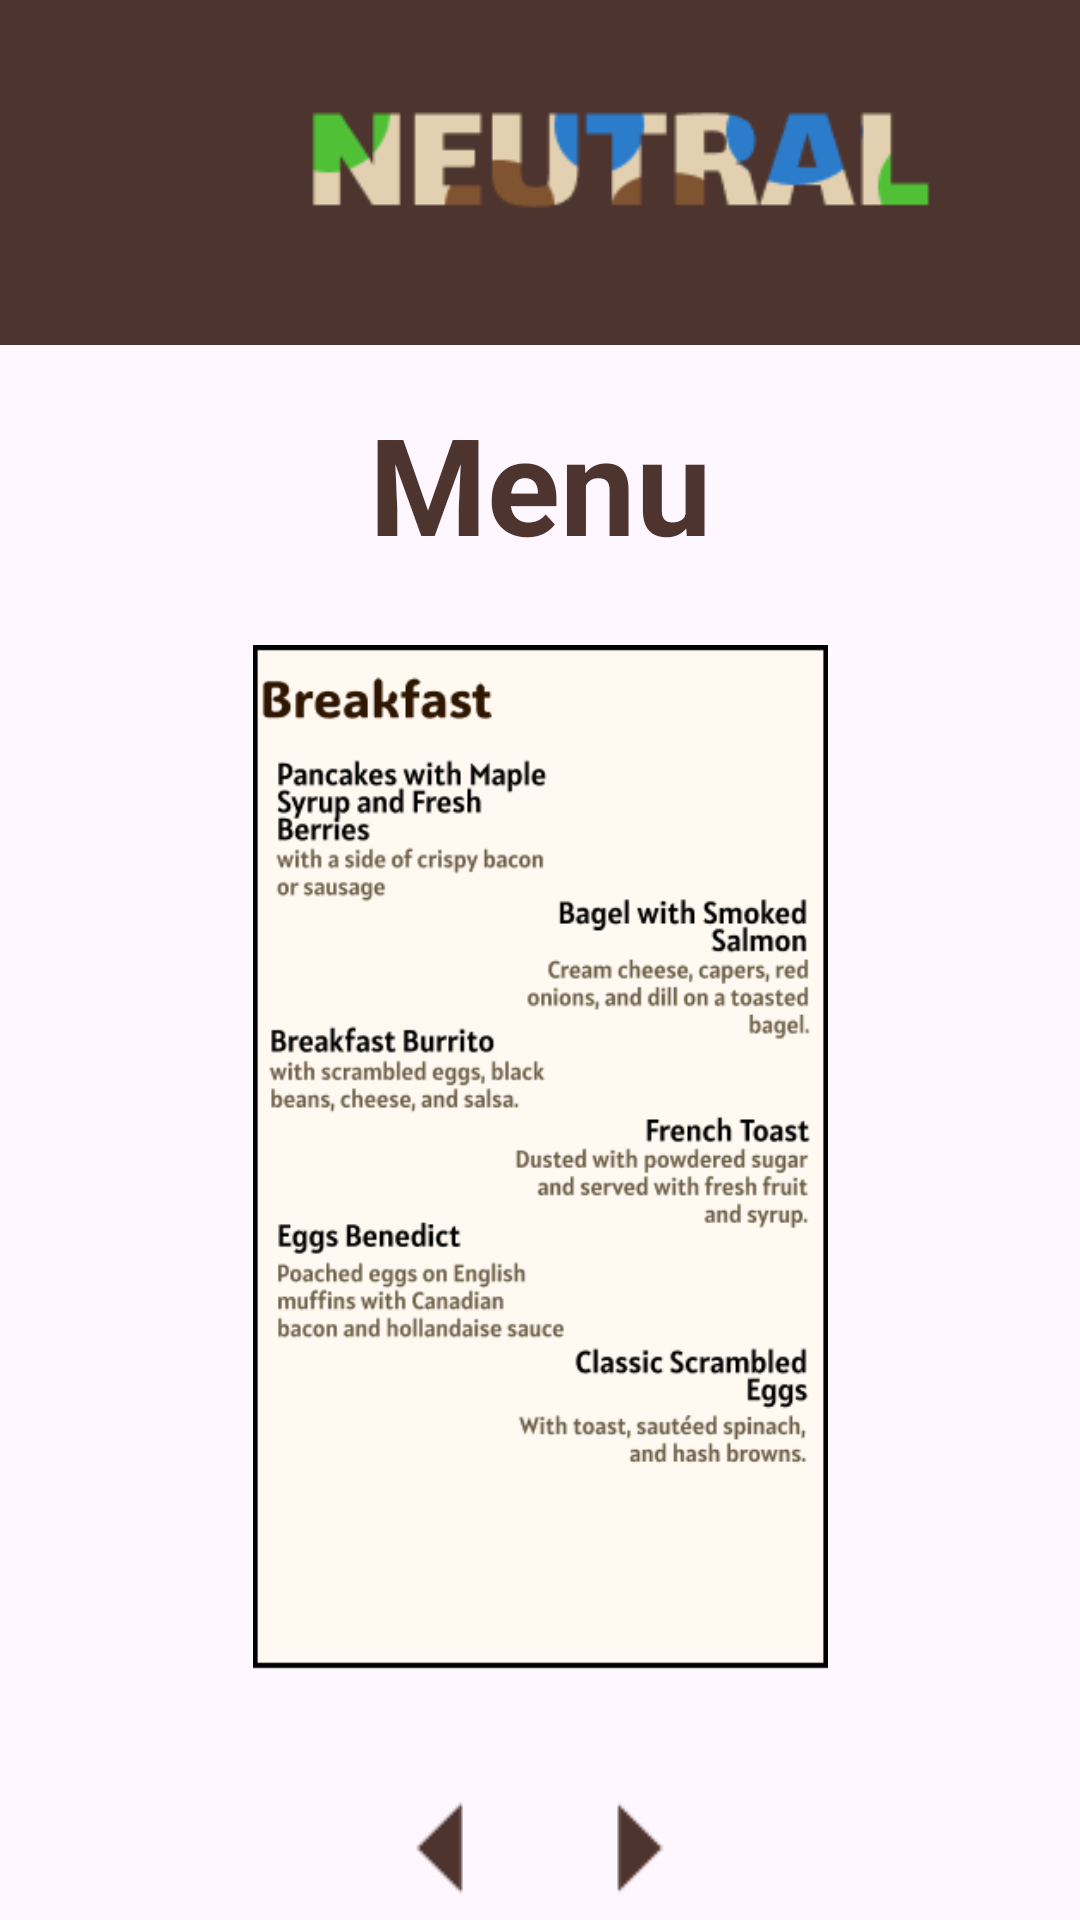

Icons on this 1080px×1920px Android screen, each with its box as (x1=x1, y1=y1, x2=x2, y2=y2):
Next: (x1=617, y1=1804, x2=663, y2=1892)
Previous: (x1=416, y1=1803, x2=463, y2=1893)
